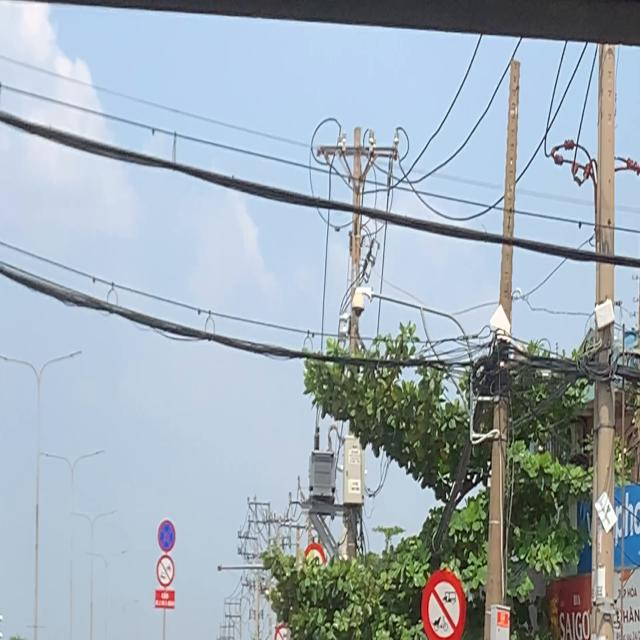Cam con lai: (421, 567, 466, 640), (155, 554, 175, 588)
Cam dung va do: (156, 518, 176, 554)
